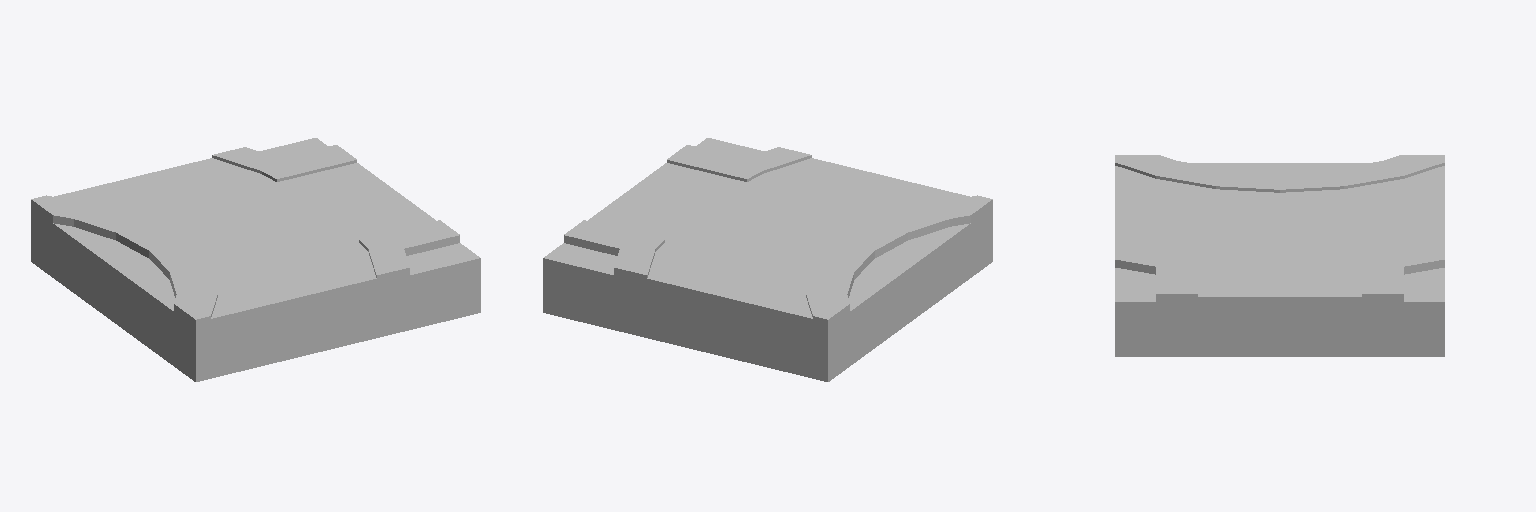
Rendered from tile100.obj.
3 renders of one model, left to right at view 1: azimuth 30°, elevation 25°; view 2: azimuth 150°, elevation 25°; view 3: azimuth 270°, elevation 25°, orthographic.
Parts seen in each view (by area): view 1: tile100; view 2: tile100; view 3: tile100.
Part boxes in pixels (x1,y1,x2,y2): tile100: (31, 138, 480, 381); tile100: (543, 138, 992, 381); tile100: (1115, 155, 1444, 356).
Bounding box in the file's own units: 1 × 0.21 × 1.